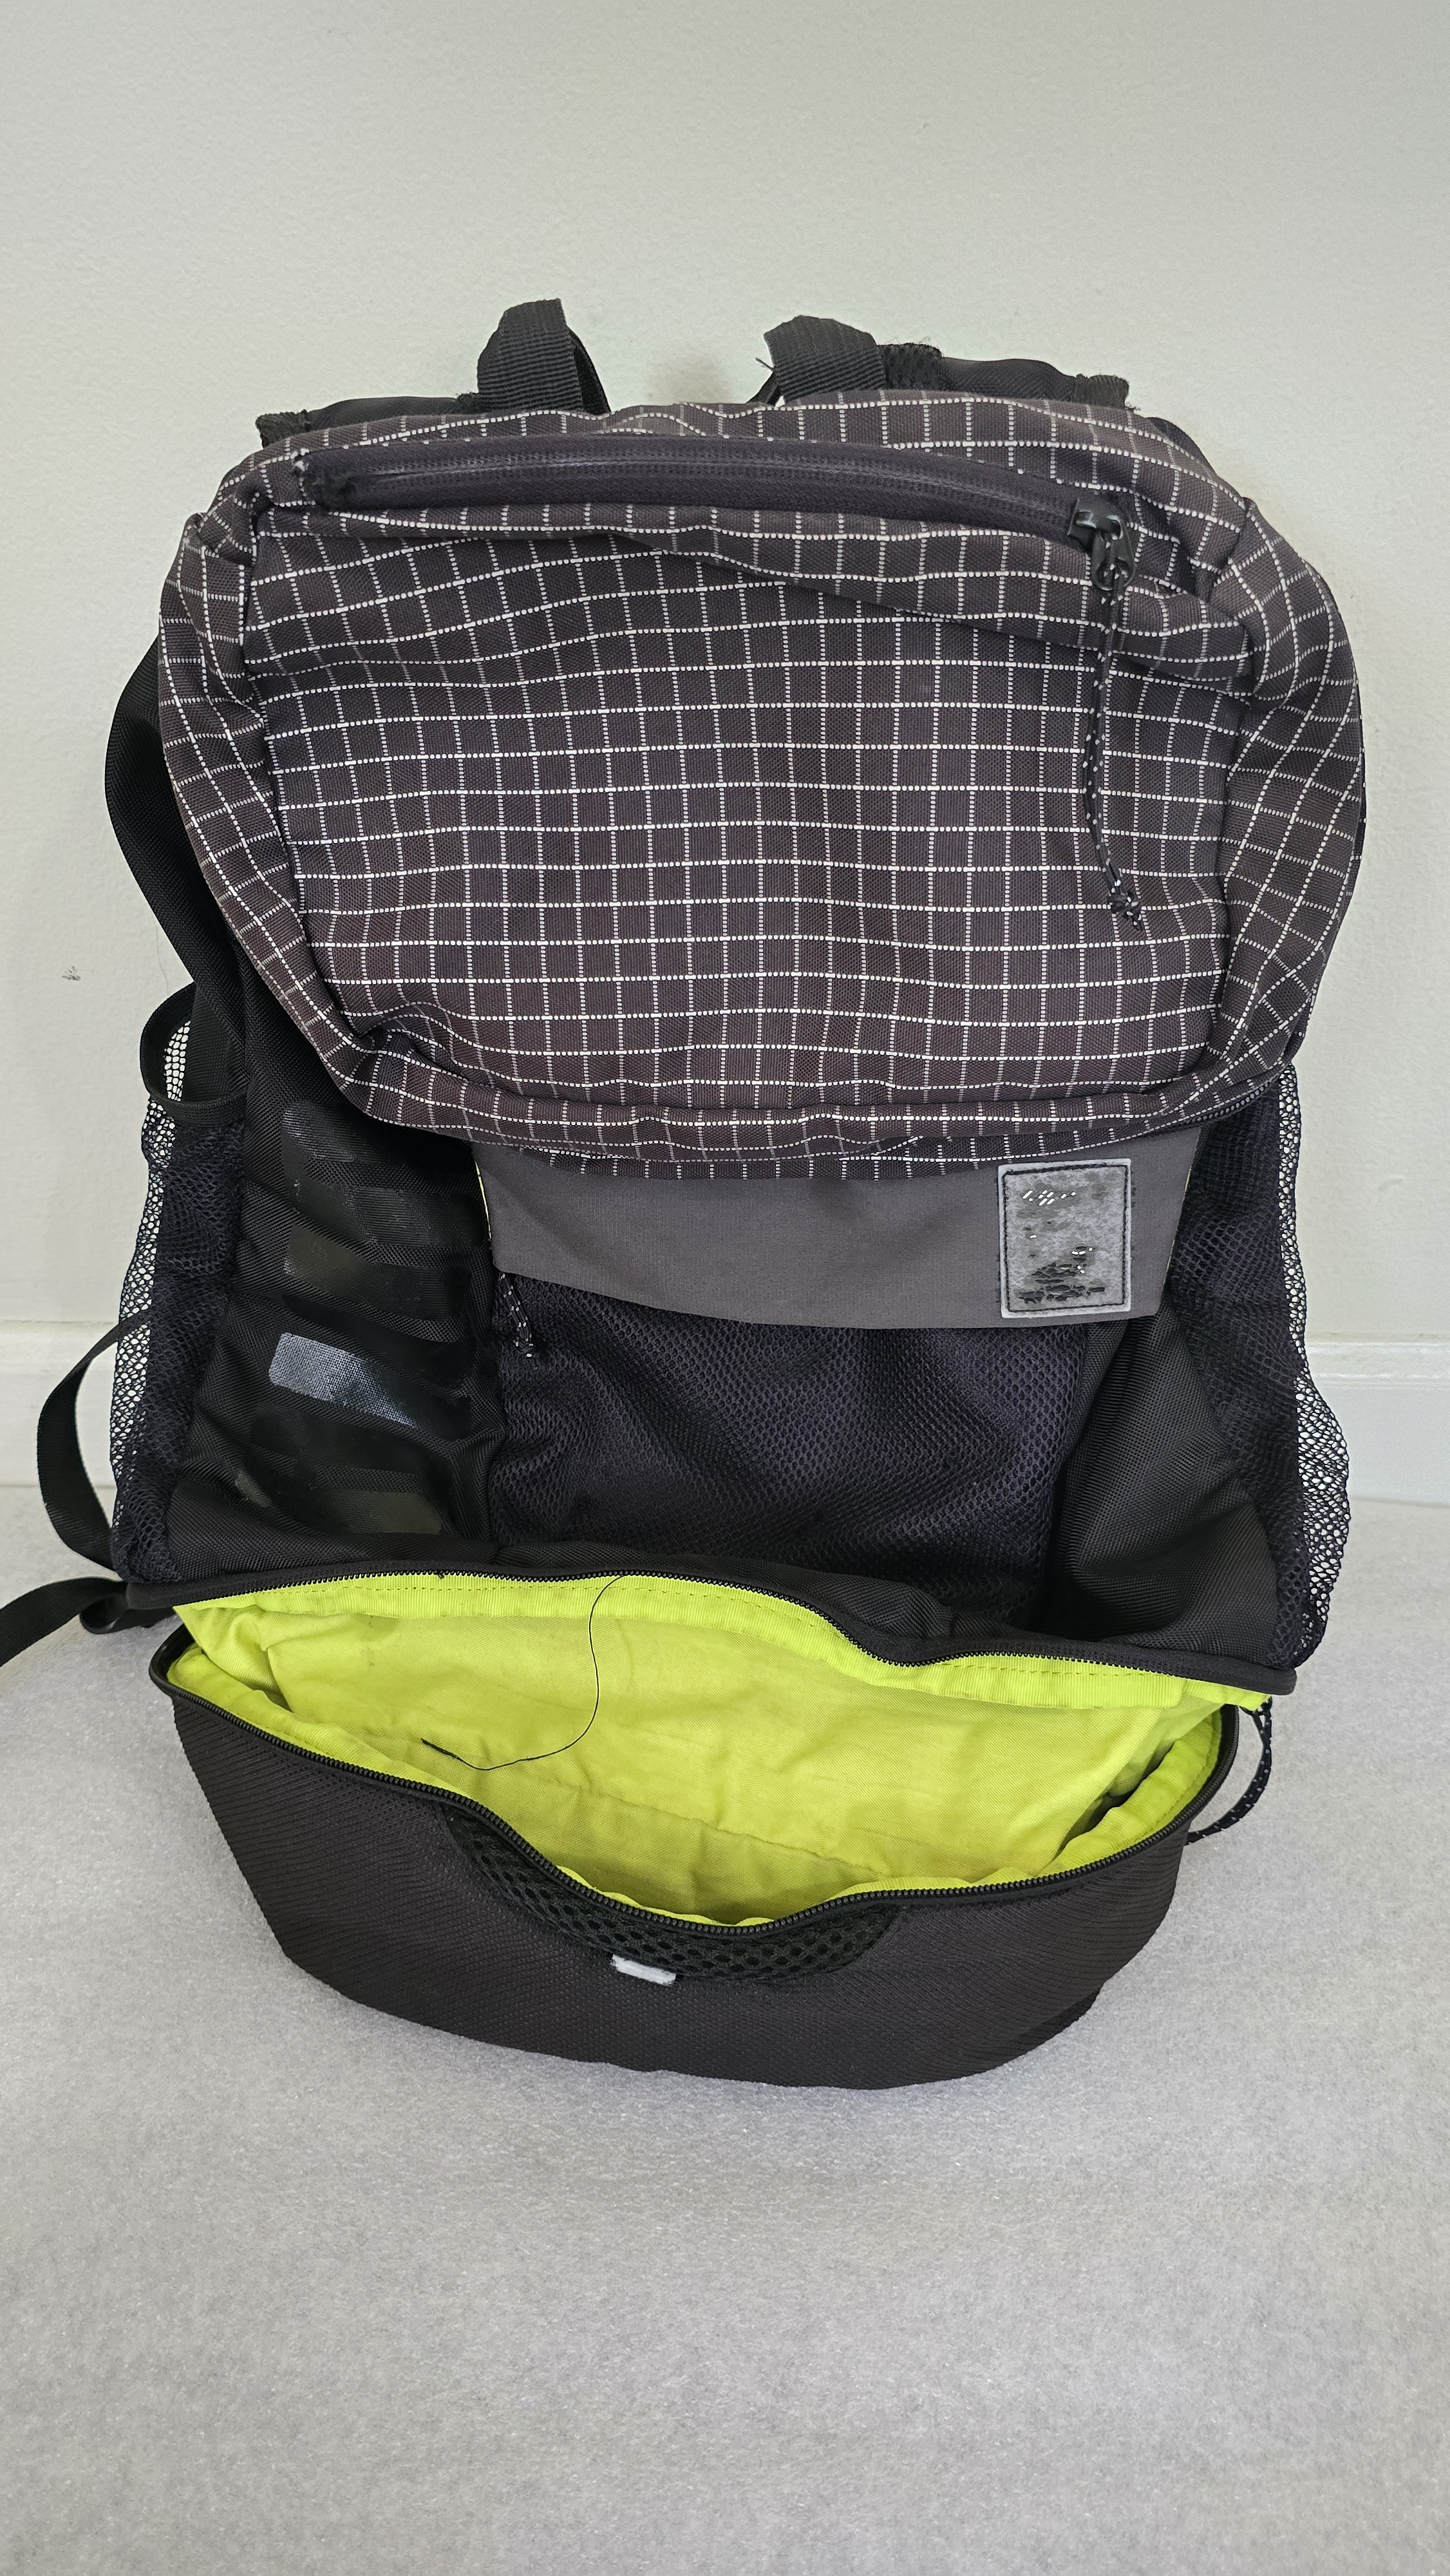bag: (101, 313, 1310, 2121)
